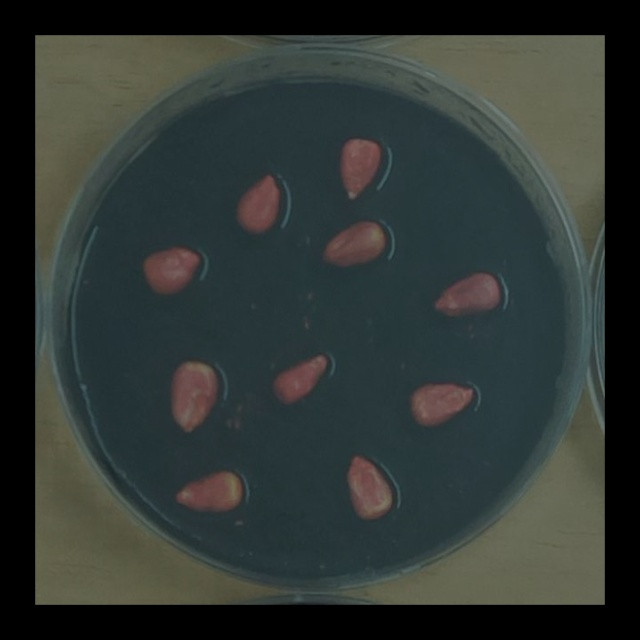Zea mays: (163, 355, 223, 441), (314, 215, 391, 278), (230, 168, 293, 243), (426, 267, 506, 326), (264, 349, 336, 414), (341, 449, 399, 529), (167, 464, 249, 520), (401, 377, 480, 435), (333, 133, 392, 209), (135, 240, 207, 302)
